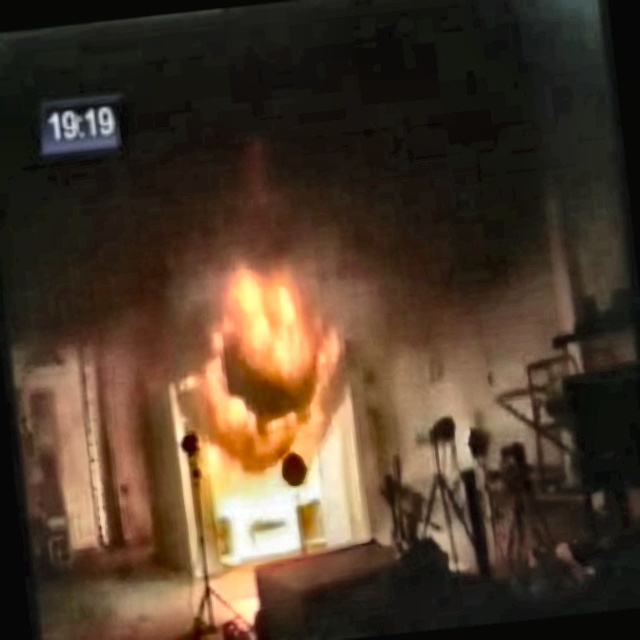fire: (178, 240, 370, 458)
